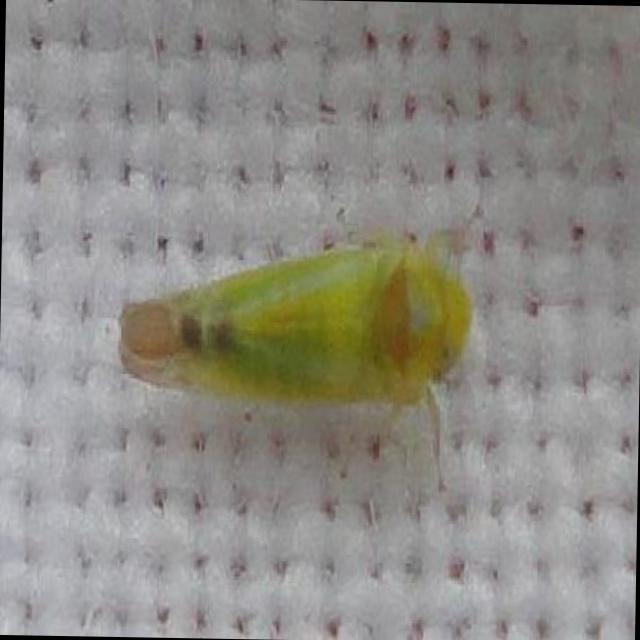green-leafhopper: (115, 207, 480, 490)
